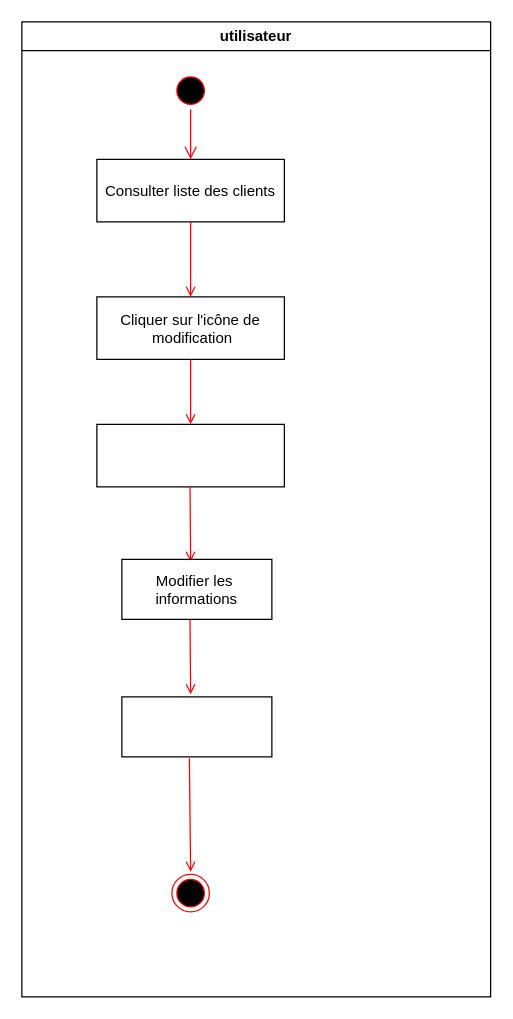
This 513x1019 diagram has some shape labels left out. Here are the shapes that lost their labels. From the top down, the box of each, then its label:
(96, 423, 284, 487): redirection vers la page d'ajout du client
(121, 696, 272, 757): enregistrer les modifications
